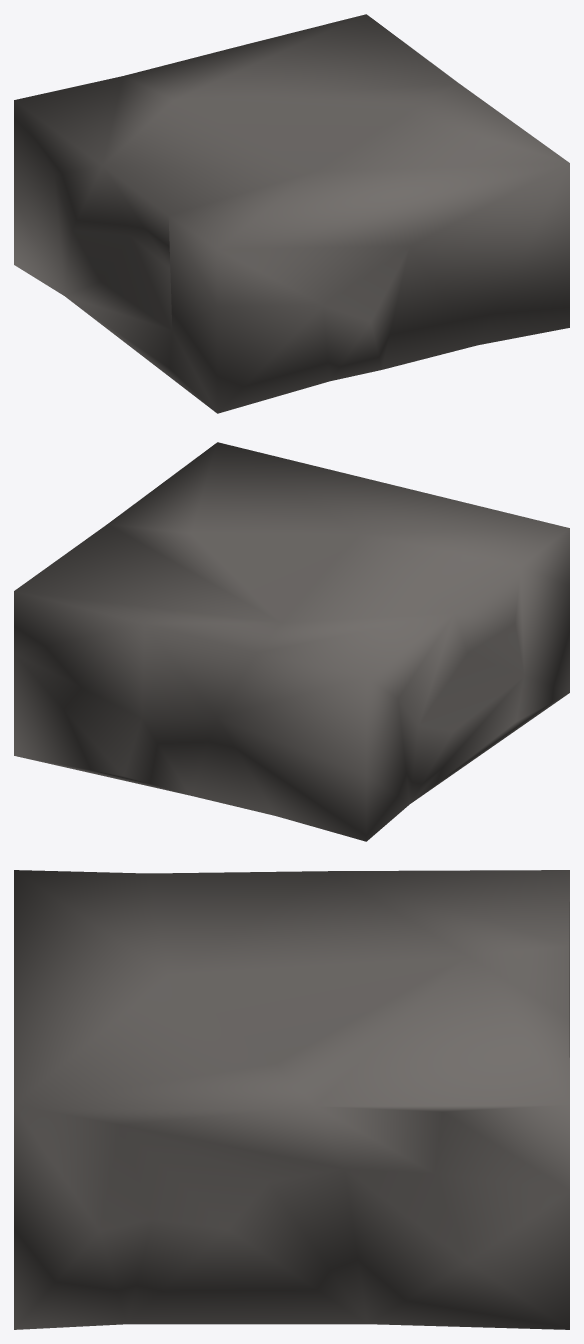
File: underrock_3.glb
3 views of the same model, one above another, from view 1: azimuth 30°, elevation 25°; view 2: azimuth 150°, elevation 25°; view 3: azimuth 270°, elevation 25° (orthographic). The views are drawn at different scales.
Parts seen in each view (by area): view 1: underrock_3; view 2: underrock_3; view 3: underrock_3.
Boxes of the visible parts, left/top/right/bottom form: underrock_3: left=14, top=14, right=569, bottom=413; underrock_3: left=14, top=442, right=569, bottom=841; underrock_3: left=14, top=870, right=569, bottom=1329.
Size of the model in its own units: 2.8 by 1.25 by 2.8.
Materials: 1 (1 with a texture image).
